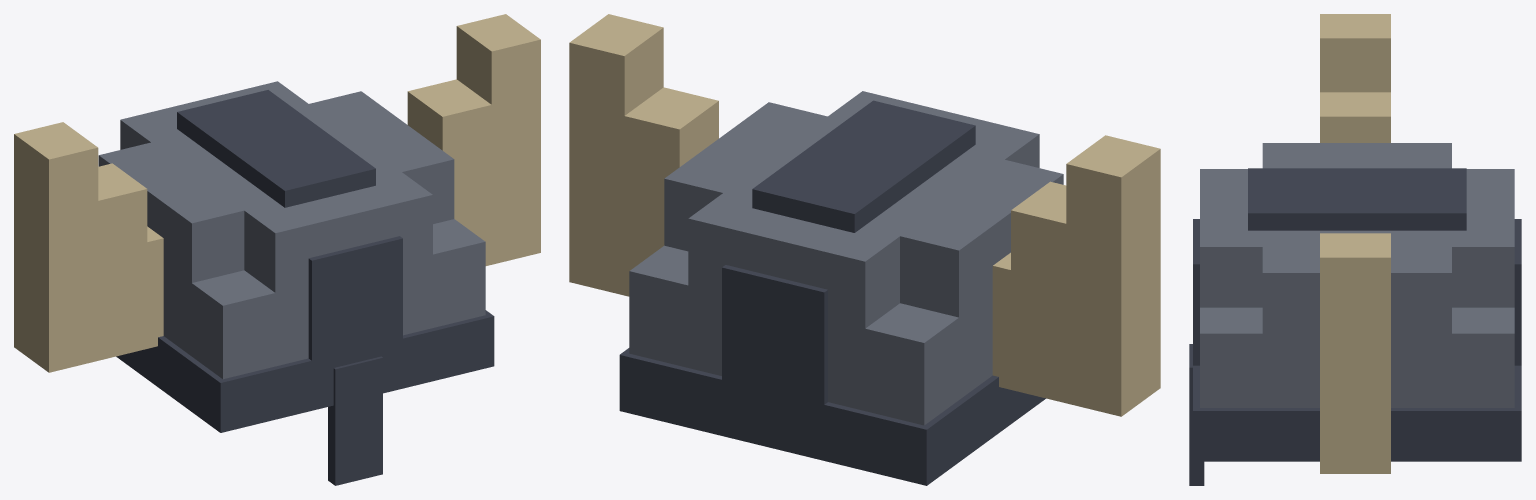
File: viking-helmet-pixor-blocky.glb
3 renders of one model, left to right at view 1: azimuth 30°, elevation 25°; view 2: azimuth 150°, elevation 25°; view 3: azimuth 270°, elevation 25°, orthographic. The views are drawn at different scales.
Parts seen in each view (by area): view 1: Helmet dome, Helmet horns, Helmet bands, Helmet nose guard; view 2: Helmet dome, Helmet horns, Helmet bands; view 3: Helmet dome, Helmet bands, Helmet horns, Helmet nose guard.
Part boxes in pixels (x1,y1,x2,y2): Helmet dome: (98, 81, 485, 379); Helmet horns: (14, 14, 540, 372); Helmet bands: (116, 90, 494, 432); Helmet nose guard: (328, 356, 382, 485); Helmet dome: (629, 91, 1063, 425); Helmet horns: (569, 14, 1160, 416); Helmet bands: (619, 100, 1045, 485); Helmet dome: (1200, 143, 1514, 407); Helmet bands: (1193, 168, 1521, 461); Helmet horns: (1320, 14, 1390, 473); Helmet nose guard: (1189, 344, 1204, 485).
Size of the model in its own units: 0.6181 by 0.4004 by 0.3561.
